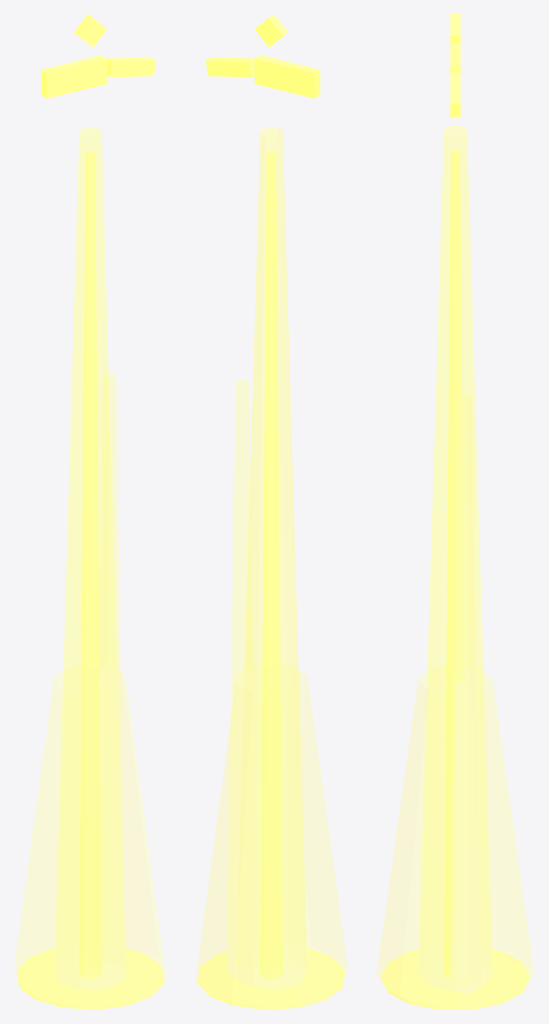
Rendered from fx_drop_rare.glb.
3 renders of one model, left to right at view 1: azimuth 30°, elevation 25°; view 2: azimuth 150°, elevation 25°; view 3: azimuth 270°, elevation 25°, orthographic.
Parts seen in each view (by area): view 1: fx_drop_rare; view 2: fx_drop_rare; view 3: fx_drop_rare.
Boxes of the visible parts, x1,y1,x2,y2 form: fx_drop_rare: (14, 14, 166, 1009); fx_drop_rare: (195, 14, 347, 1009); fx_drop_rare: (376, 14, 534, 1009).
Size of the model in its own units: 0.68 by 4.57 by 0.68.
